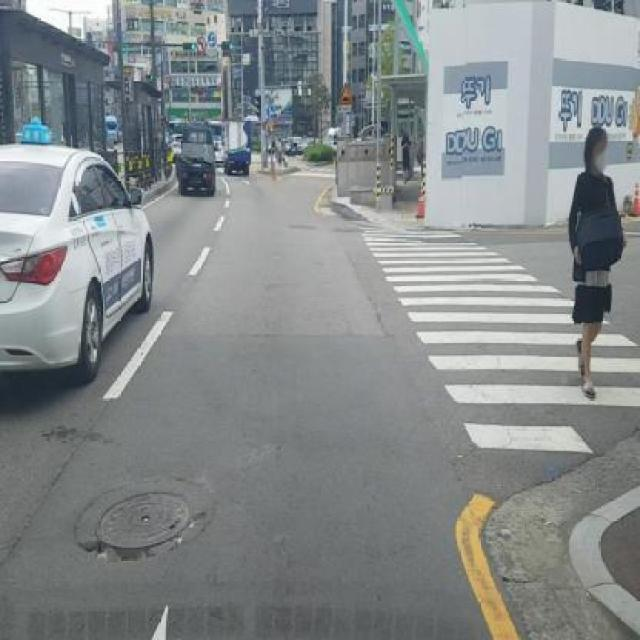Manhole: (74, 488, 208, 564)
